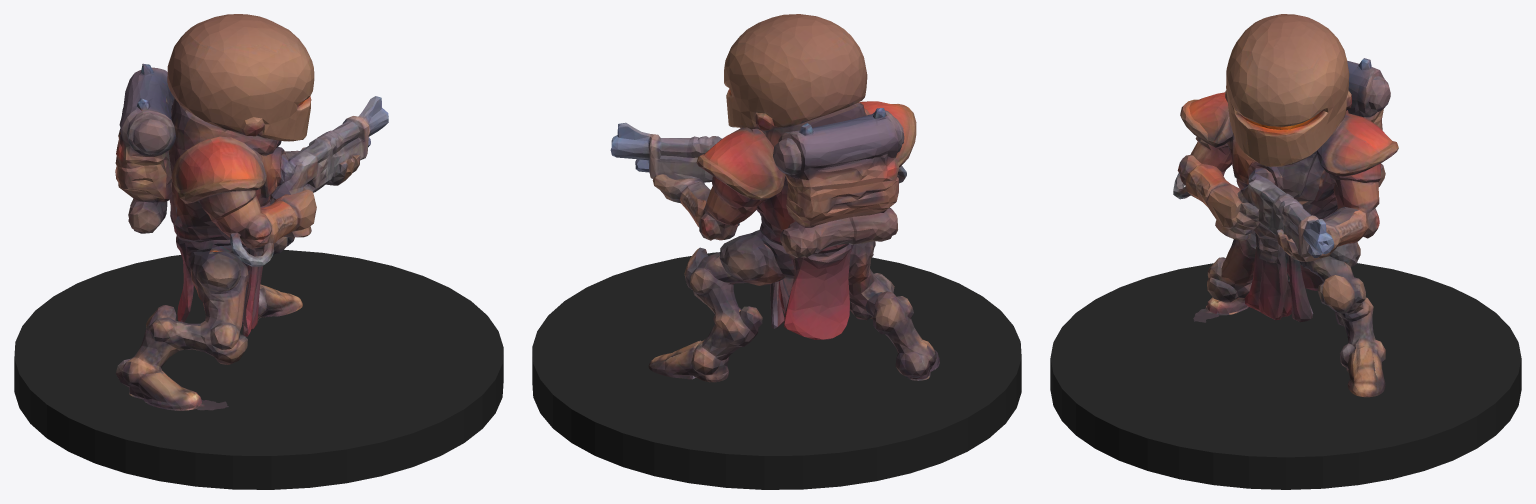
The model's file is hc-sicarian-infiltrator-warrior-b.glb.
The picture shows the model from 3 angles, left to right: view 1: azimuth 30°, elevation 25°; view 2: azimuth 150°, elevation 25°; view 3: azimuth 270°, elevation 25°; orthographic projection. The views are drawn at different scales.
Parts seen in each view (by area): view 1: base, figure; view 2: base, figure; view 3: base, figure.
Boxes of the visible parts, x1,y1,x2,y2 form: base: (14,249,503,489); figure: (115,14,388,410); base: (532,252,1021,489); figure: (610,14,939,382); base: (1050,263,1521,489); figure: (1173,14,1398,397).
Size of the model in its own units: 1.57 by 1.32 by 1.57.
2 materials, 1 textured.
